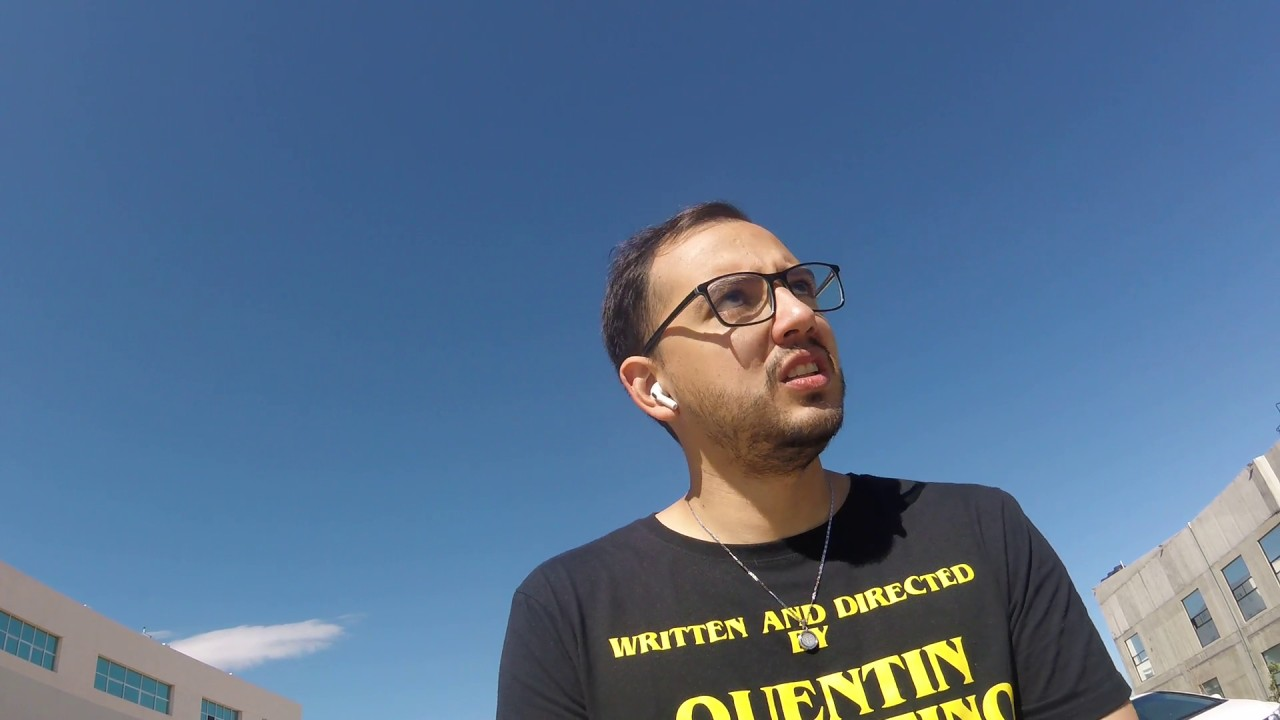Without Helmet: (585, 182, 856, 488)
